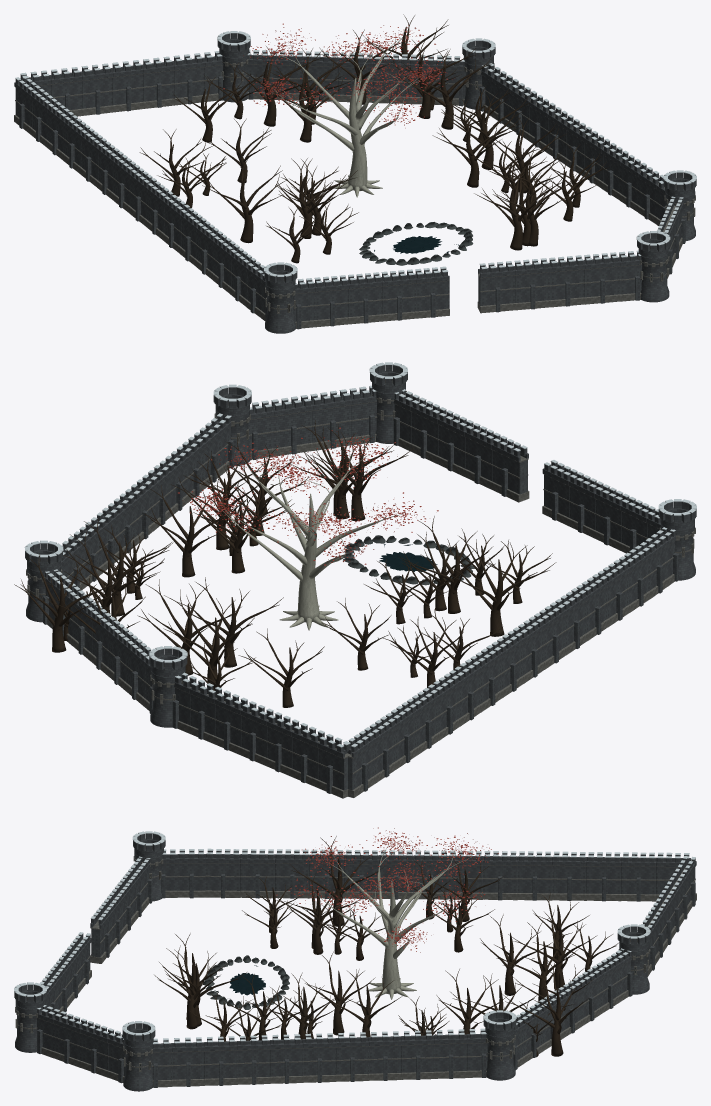
Rendered from godswood.glb.
The picture shows the model from 3 angles, top to bottom: view 1: azimuth 30°, elevation 25°; view 2: azimuth 150°, elevation 25°; view 3: azimuth 270°, elevation 25°; orthographic projection. The views are drawn at different scales.
Parts seen in each view (by area): view 1: ENV_R5_Stone, ENV_R5_Bark, ENV_R5_Trim, ENV_R5_Snow, ENV_R5_PaleBark, ENV_R5_RedLeaves, ENV_R5_Rock, ENV_R5_Water; view 2: ENV_R5_Stone, ENV_R5_Bark, ENV_R5_Trim, ENV_R5_Snow, ENV_R5_PaleBark, ENV_R5_RedLeaves, ENV_R5_Rock, ENV_R5_Water; view 3: ENV_R5_Stone, ENV_R5_Bark, ENV_R5_Trim, ENV_R5_Snow, ENV_R5_RedLeaves, ENV_R5_PaleBark, ENV_R5_Rock, ENV_R5_Water.
Boxes of the visible parts, x1,y1,x2,y2 form: ENV_R5_Stone: [14, 33, 696, 333]; ENV_R5_Bark: [139, 14, 608, 263]; ENV_R5_Trim: [14, 56, 695, 328]; ENV_R5_Snow: [15, 31, 696, 284]; ENV_R5_PaleBark: [273, 37, 424, 197]; ENV_R5_RedLeaves: [223, 23, 454, 128]; ENV_R5_Rock: [359, 222, 473, 265]; ENV_R5_Water: [374, 236, 459, 259]; ENV_R5_Stone: [25, 365, 696, 793]; ENV_R5_Bark: [14, 420, 556, 707]; ENV_R5_Trim: [26, 391, 695, 798]; ENV_R5_Snow: [24, 362, 696, 747]; ENV_R5_PaleBark: [215, 447, 401, 630]; ENV_R5_RedLeaves: [178, 427, 438, 565]; ENV_R5_Rock: [343, 535, 475, 585]; ENV_R5_Water: [379, 544, 437, 571]; ENV_R5_Stone: [14, 833, 696, 1091]; ENV_R5_Bark: [154, 836, 618, 1056]; ENV_R5_Trim: [15, 856, 696, 1087]; ENV_R5_Snow: [14, 831, 695, 1044]; ENV_R5_RedLeaves: [276, 827, 498, 952]; ENV_R5_PaleBark: [314, 842, 471, 999]; ENV_R5_Rock: [203, 955, 289, 1009]; ENV_R5_Water: [214, 965, 265, 999].
Bounding box in the file's own units: 93.42 × 30.42 × 132.
10 materials, 8 textured.
